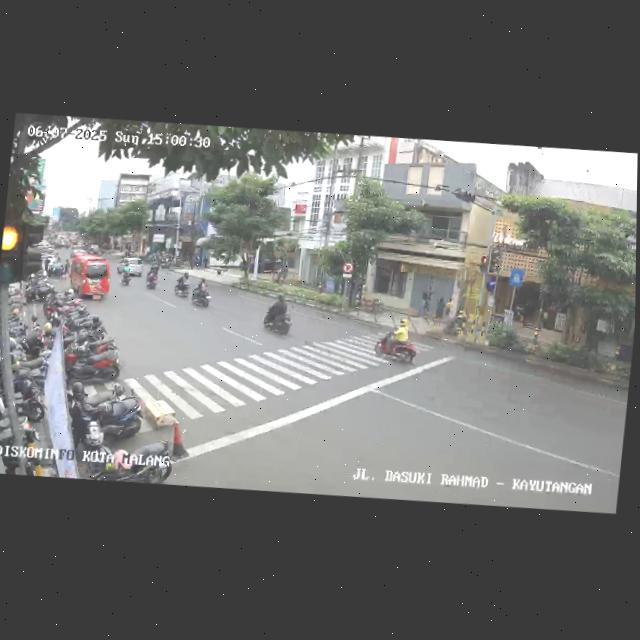car: (65, 252, 112, 302), (117, 256, 144, 283)
motorcycle: (375, 314, 421, 368), (260, 294, 295, 339), (611, 336, 633, 378), (189, 277, 213, 310), (173, 270, 191, 298), (143, 263, 161, 291), (120, 262, 134, 287)
